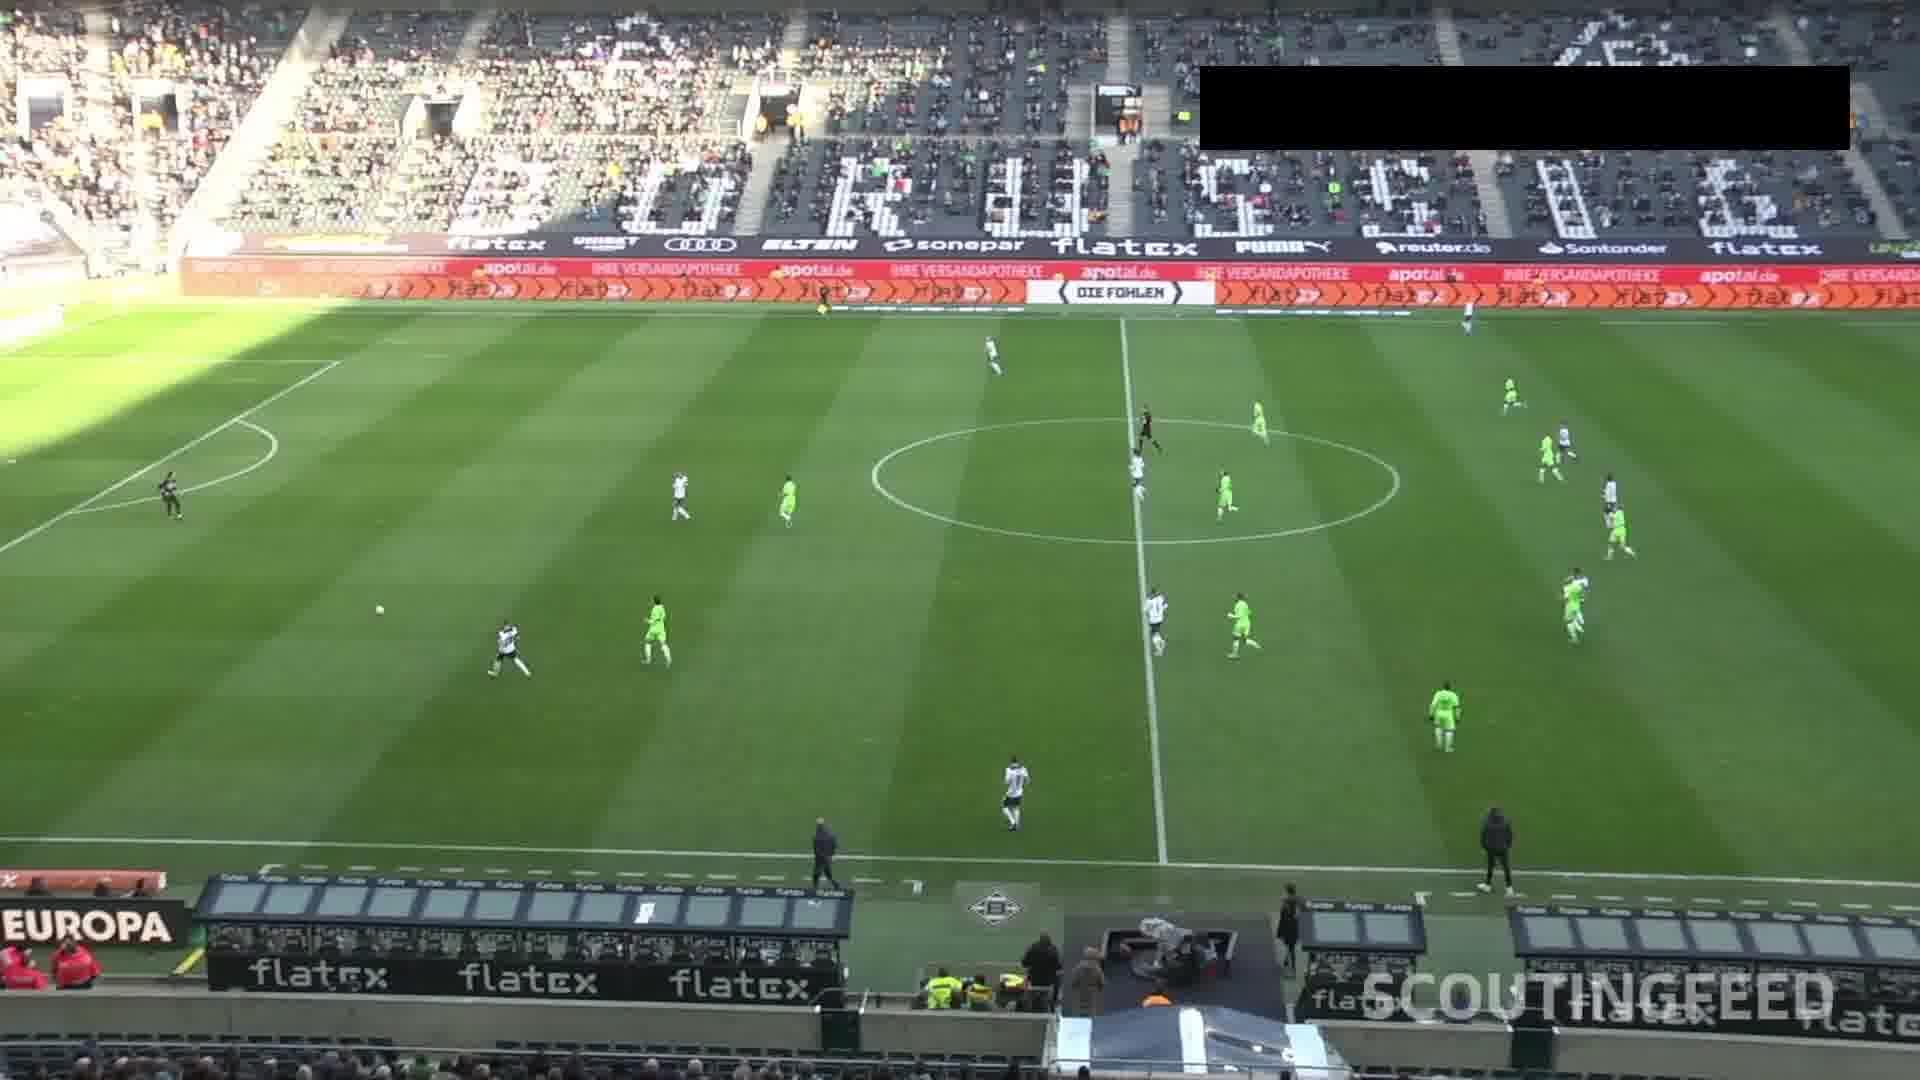football: (376, 607, 384, 616)
